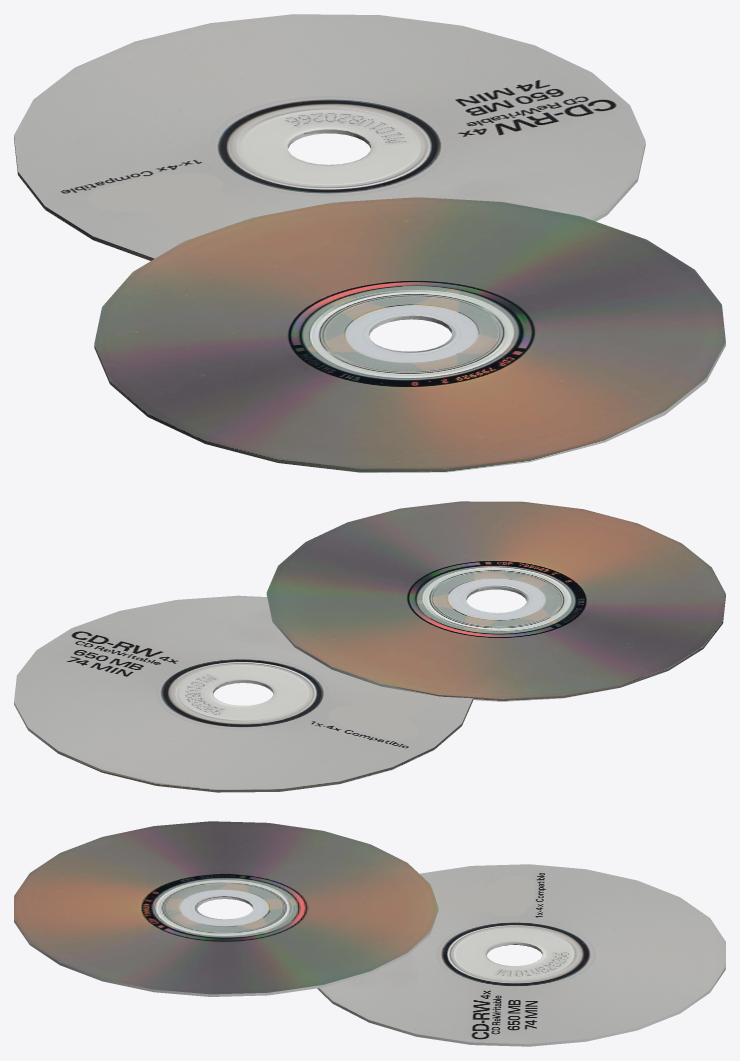
File: Cds.FBX
3 renders of one model, top to bottom at view 1: azimuth 30°, elevation 25°; view 2: azimuth 150°, elevation 25°; view 3: azimuth 270°, elevation 25°, orthographic. The views are drawn at different scales.
Visible parts, largest first — view 1: disc 1, disc 2; view 2: disc 1, disc 2; view 3: disc 1, disc 2.
Boxes of the visible parts, box(x1,y1,x2,y2) form: disc 1: box(94, 197, 725, 472); disc 2: box(14, 14, 645, 260); disc 1: box(266, 501, 725, 701); disc 2: box(14, 595, 473, 792); disc 1: box(14, 821, 438, 996); disc 2: box(317, 864, 725, 1046).
Size of the model in its own units: 22.71 by 0.4404 by 30.53.
Materials: 1 (1 with a texture image).
